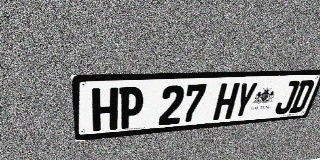2: (158, 85, 185, 125)
7: (180, 84, 207, 123)
D: (288, 80, 316, 113)
H: (92, 87, 118, 132), (212, 83, 240, 120)
J: (273, 80, 301, 115)
P: (118, 86, 144, 129)
Y: (231, 82, 258, 119)
